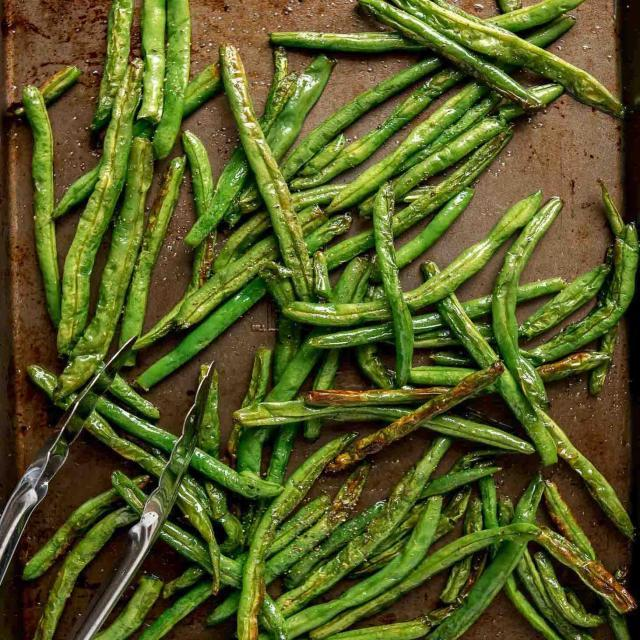Beans: (14, 0, 639, 639)
